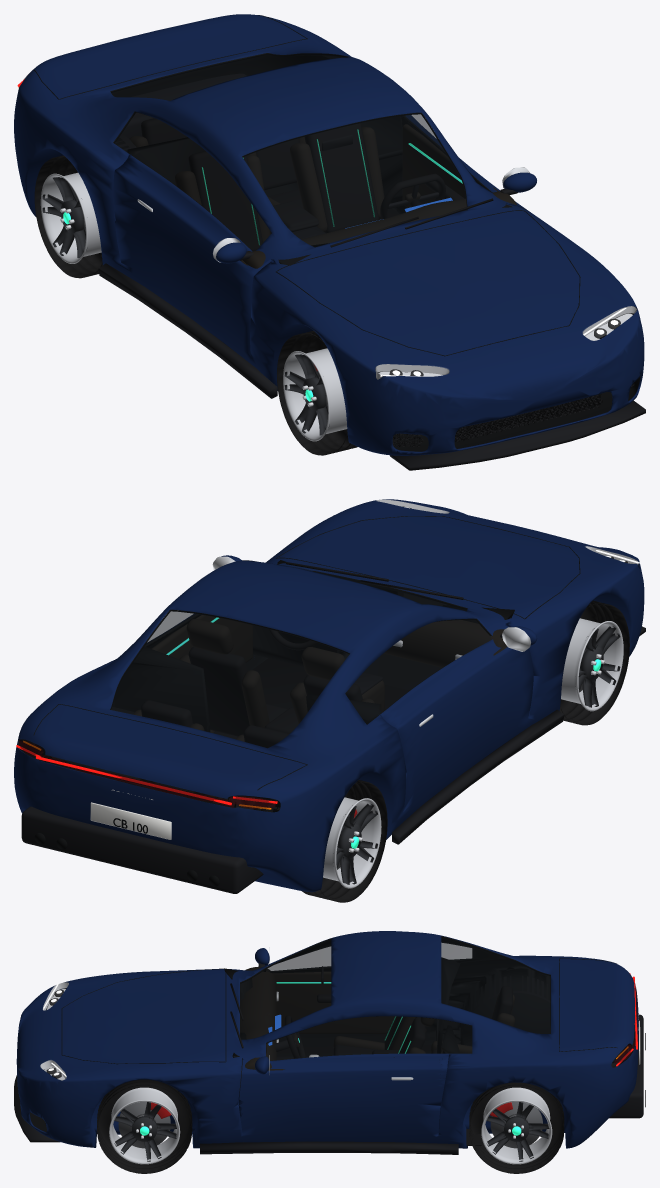
Rendered from car.glb.
The picture shows the model from 3 angles, top to bottom: view 1: azimuth 30°, elevation 25°; view 2: azimuth 150°, elevation 25°; view 3: azimuth 270°, elevation 25°; orthographic projection. The views are drawn at different scales.
Parts seen in each view (by area): view 1: CarBody, Wheel_FR_Spin, Wheel_RR_Spin, DoorPanel_L, SteeringWheel; view 2: CarBody, Wheel_FR_Spin, Wheel_RR_Spin, DoorPanel_L; view 3: CarBody, DoorPanel_L, Wheel_FL_Spin, Wheel_RL_Spin, SteeringWheel.
Part boxes in pixels (bbox=[...]): CarBody: bbox=[14, 14, 645, 470]; Wheel_FR_Spin: bbox=[277, 330, 357, 455]; Wheel_RR_Spin: bbox=[34, 155, 102, 278]; DoorPanel_L: bbox=[378, 114, 524, 214]; SteeringWheel: bbox=[380, 173, 445, 219]; CarBody: bbox=[14, 499, 645, 893]; Wheel_FR_Spin: bbox=[559, 600, 629, 725]; Wheel_RR_Spin: bbox=[302, 780, 387, 902]; DoorPanel_L: bbox=[146, 561, 337, 732]; CarBody: bbox=[14, 931, 645, 1154]; DoorPanel_L: bbox=[233, 987, 446, 1143]; Wheel_FL_Spin: bbox=[97, 1079, 192, 1173]; Wheel_RL_Spin: bbox=[469, 1082, 564, 1173]; SteeringWheel: bbox=[284, 1015, 305, 1058].
Size of the model in its own units: 2.06 by 1.28 by 4.59.
